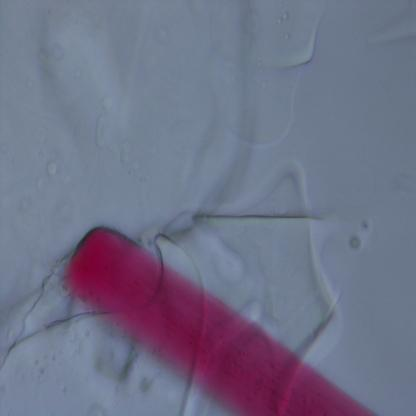Background material: (198, 157, 347, 354), (239, 1, 321, 152), (0, 254, 88, 376), (150, 204, 204, 266), (94, 93, 135, 162), (362, 18, 416, 50), (349, 231, 364, 253)
Microfibre: (64, 228, 376, 416)
